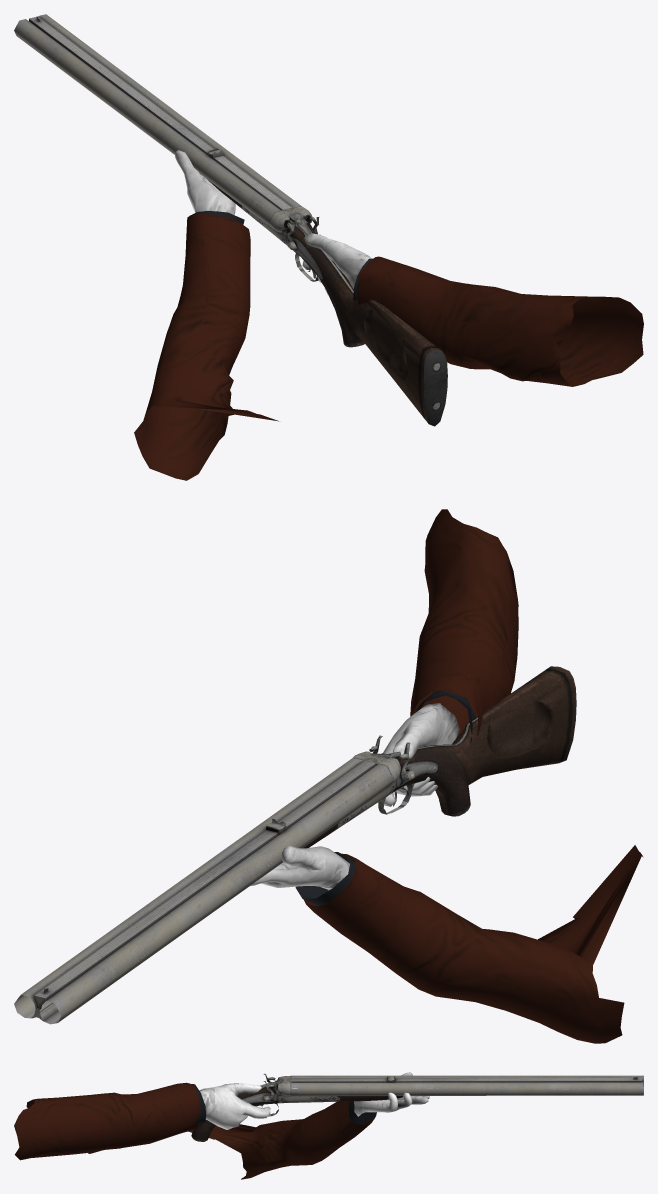
File: frame_19.obj
3 renders of one model, top to bottom at view 1: azimuth 30°, elevation 25°; view 2: azimuth 150°, elevation 25°; view 3: azimuth 270°, elevation 25°, orthographic. The views are drawn at different scales.
Parts seen in each view (by area): view 1: PlayerModelMerged.001_PlayerModelMerged, double_-_barreled_shotgun_L_double_-_barreled_shotgun_LP_к.001; view 2: PlayerModelMerged.001_PlayerModelMerged, double_-_barreled_shotgun_L_double_-_barreled_shotgun_LP_к.001; view 3: PlayerModelMerged.001_PlayerModelMerged, double_-_barreled_shotgun_L_double_-_barreled_shotgun_LP_к.001.
Part boxes in pixels (left/top/right/bottom): PlayerModelMerged.001_PlayerModelMerged: left=134, top=150, right=643, bottom=480; double_-_barreled_shotgun_L_double_-_barreled_shotgun_LP_к.001: left=14, top=14, right=447, bottom=426; PlayerModelMerged.001_PlayerModelMerged: left=250, top=509, right=643, bottom=1043; double_-_barreled_shotgun_L_double_-_barreled_shotgun_LP_к.001: left=14, top=666, right=576, bottom=1024; PlayerModelMerged.001_PlayerModelMerged: left=14, top=1072, right=429, bottom=1179; double_-_barreled_shotgun_L_double_-_barreled_shotgun_LP_к.001: left=88, top=1073, right=643, bottom=1153.
Bounding box in the file's own units: 0.8331 × 0.5596 × 2.
